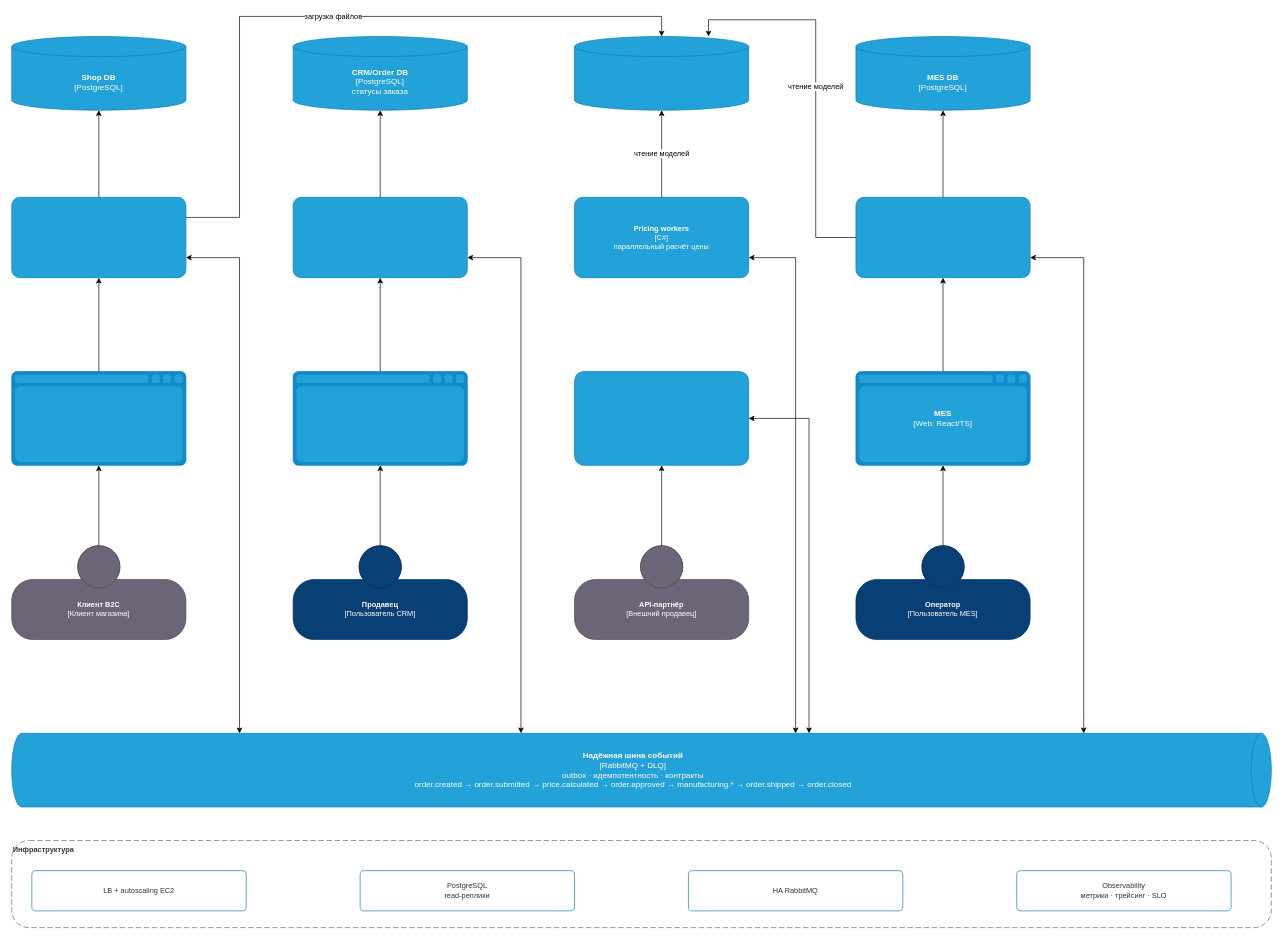
The diagram is 1283 pixels wide and 939 high, and some of its shapes have lost their labels. Each missing label, with the centre of its shape:
3D files storage [S3] загрузка: Shop API чтение: Pricing, MES API: the point at 661,73
B2B API Gateway [API] ключи · rate-limit · квоты · идемпотентность: the point at 661,418
CRM [Web: Vue/TS]: the point at 379,418
CRM API [Spring Boot] агрегат «Заказ», подтверждение, статусы: the point at 379,237
MES API [C#] заказы, назначение операторам: the point at 942,237
Shop API [Spring Boot] витрина, приём 3D-файлов, заказы: the point at 98,237
Онлайн-магазин [Web: Vue/TS/Three.js] заказ, 3D-редактор: the point at 98,418
